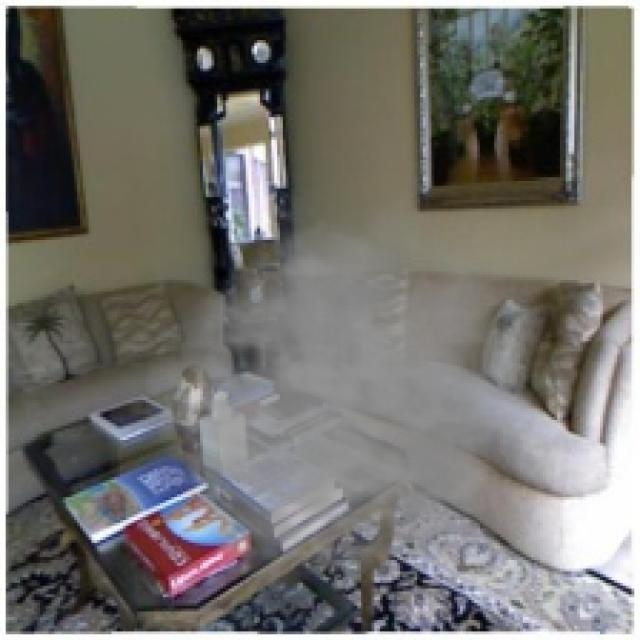smoke: (143, 188, 566, 592)
